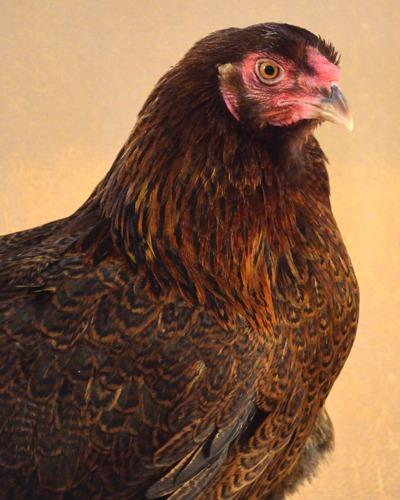AbNormal: (291, 25, 346, 87)
